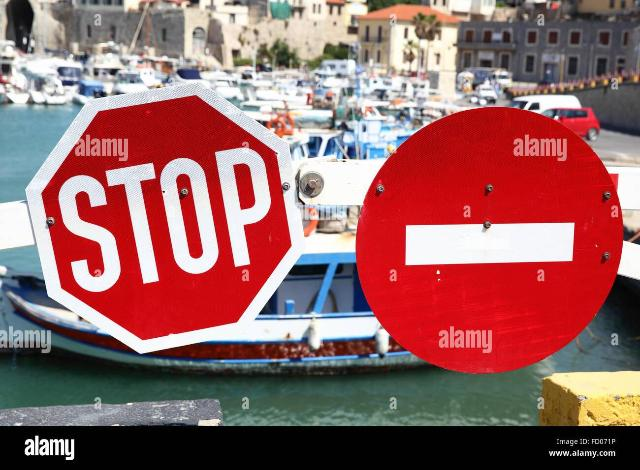B2: (354, 105, 624, 374)
